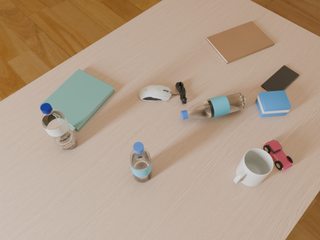book: (40, 69, 115, 131), (207, 21, 275, 64)
bottle: (181, 92, 246, 120), (40, 103, 77, 151), (130, 142, 151, 183)
box: (256, 90, 291, 117)
cup: (234, 148, 273, 186)
mouse: (139, 85, 173, 101)
phone: (261, 65, 299, 91)
toy_car: (264, 139, 293, 171)
